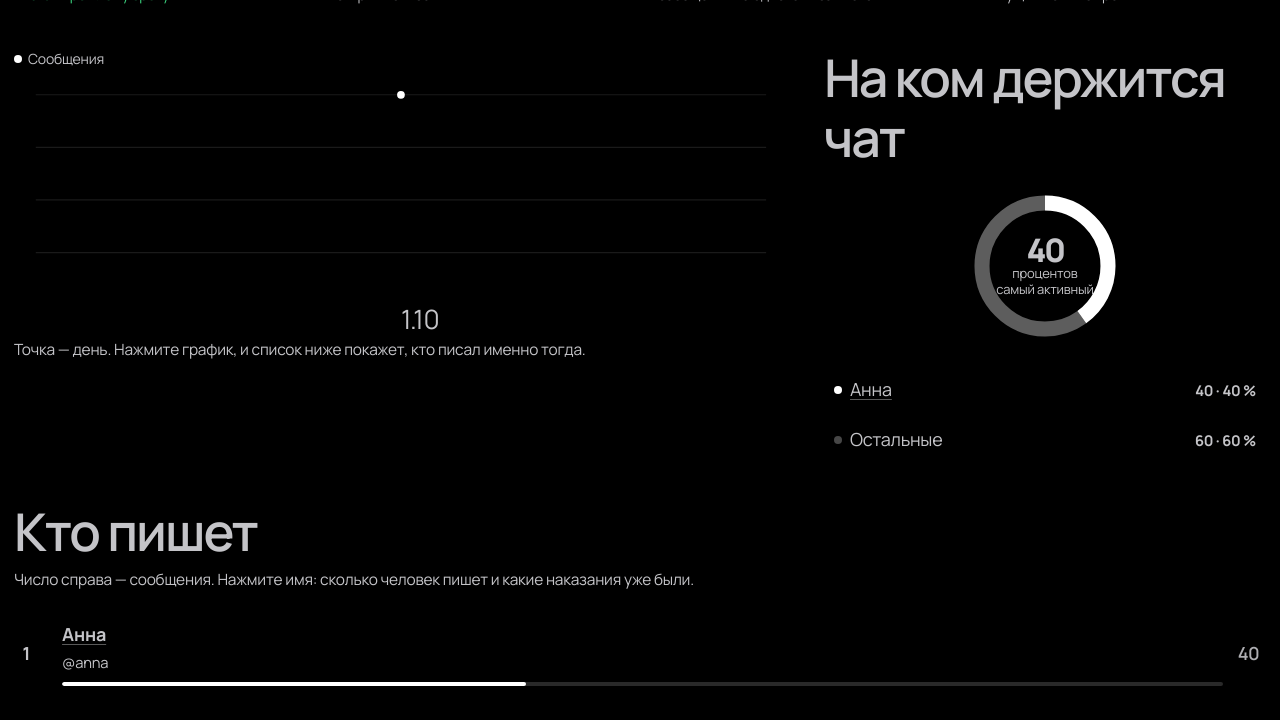
Test: ActivityBoard › lists only the punishments that already happened
The image size is (1280, 720).
(page scrolled)
Click the button with aria-label "Анна, 40 сообщений".
click(84, 634)  # box [18,611,1262,696]
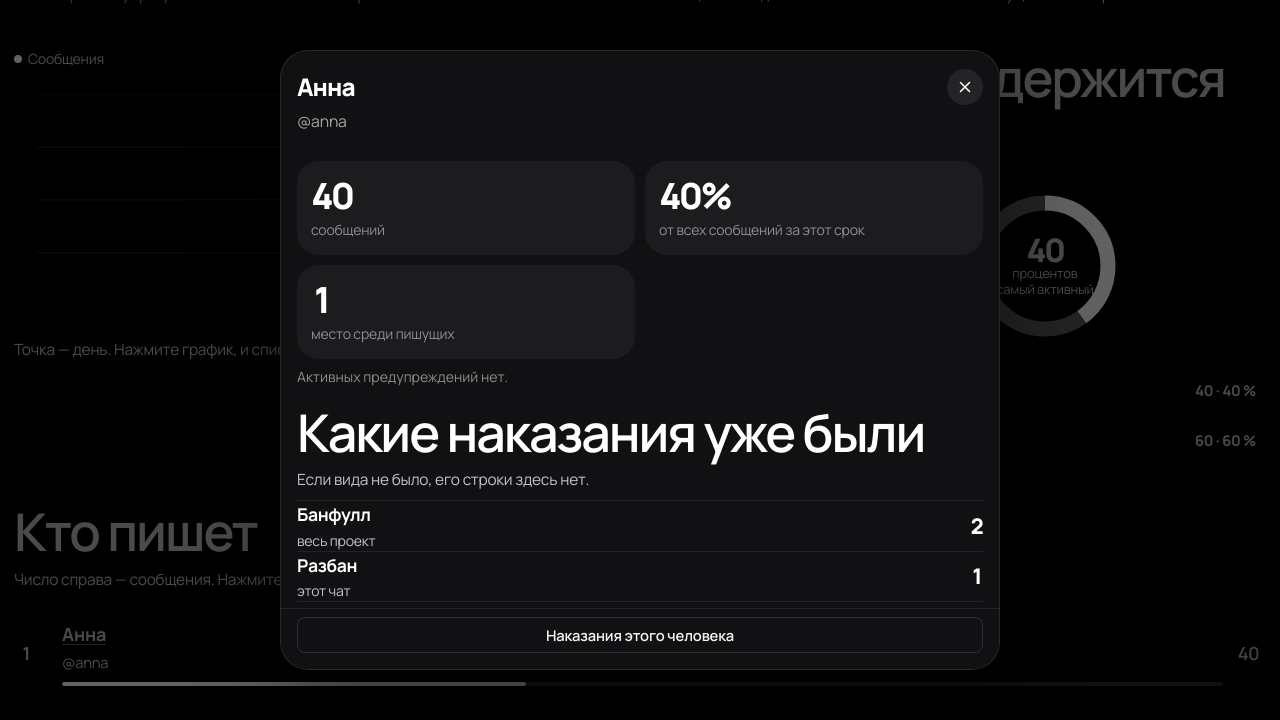
Result: the text "Банфулл" is shown at [297,501,376,528]
Result: the text "Разбан" is shown at [297,552,357,578]
Result: the text "весь проект" is shown 2 times
